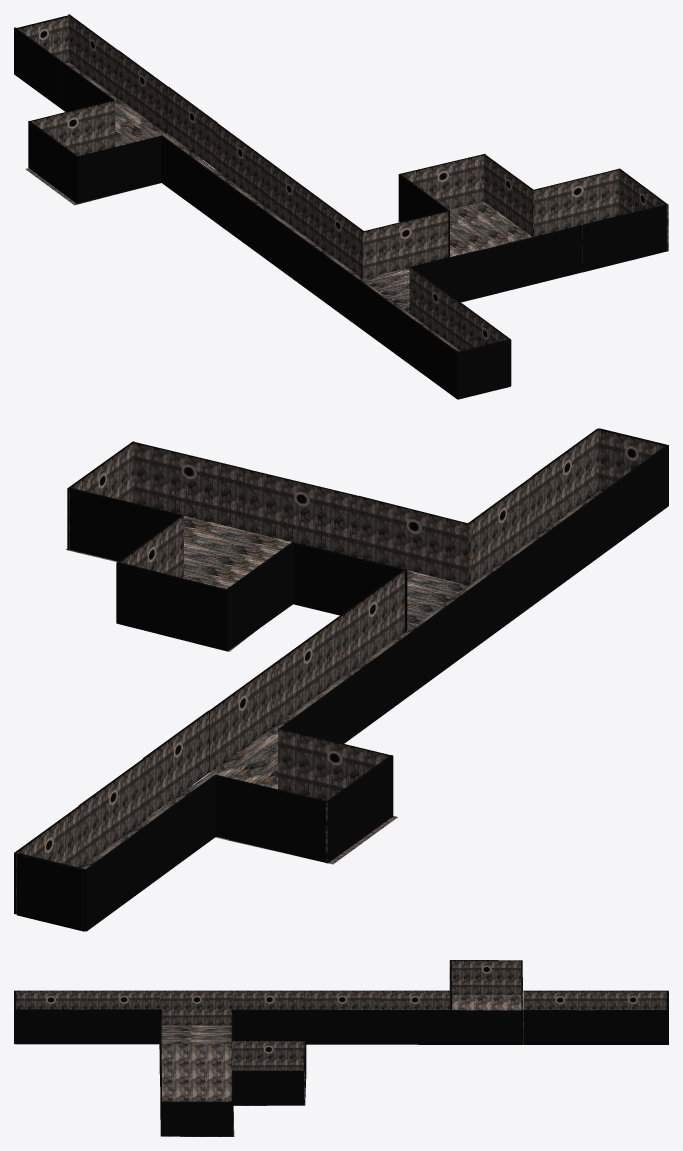
The model's file is shipwreckscene3.fbx.
3 views of the same model, one above another, from view 1: azimuth 30°, elevation 25°; view 2: azimuth 150°, elevation 25°; view 3: azimuth 270°, elevation 25° (orthographic). The views are drawn at different scales.
Visible parts, largest first — view 1: polySurface975; view 2: polySurface975; view 3: polySurface975.
Boxes of the visible parts, x1=… form: polySurface975: x1=14, y1=14, x2=668, y2=399; polySurface975: x1=14, y1=428, x2=668, y2=931; polySurface975: x1=14, y1=960, x2=668, y2=1136.
Size of the model in its own units: 187 by 21.12 by 360.
5 materials, 5 textured.
